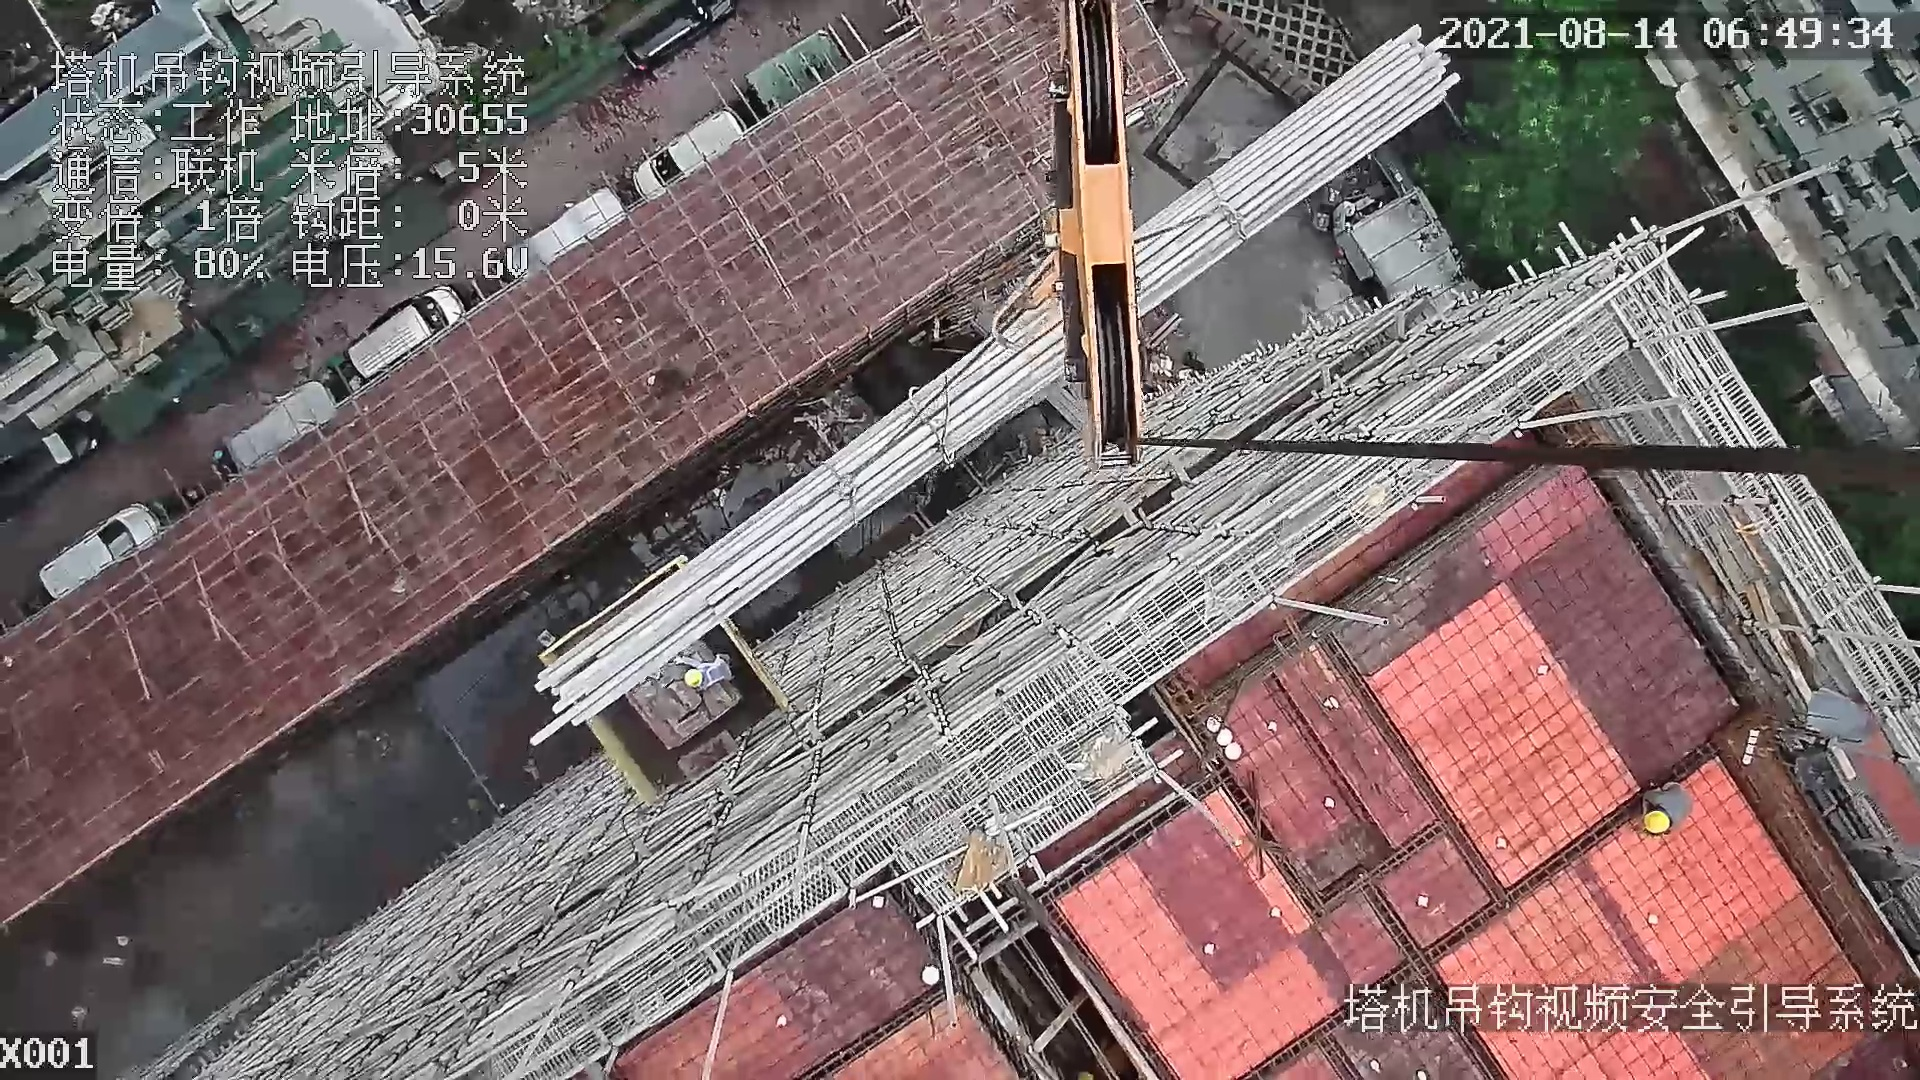helmet: (1637, 805, 1680, 846), (678, 664, 706, 691)
hook: (1003, 1, 1149, 469)
person: (662, 644, 738, 699), (1633, 782, 1688, 841)
